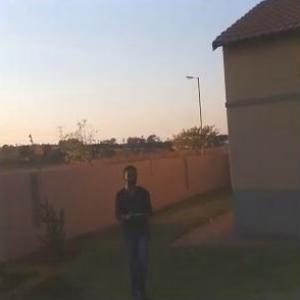follow: (112, 158, 160, 299)
